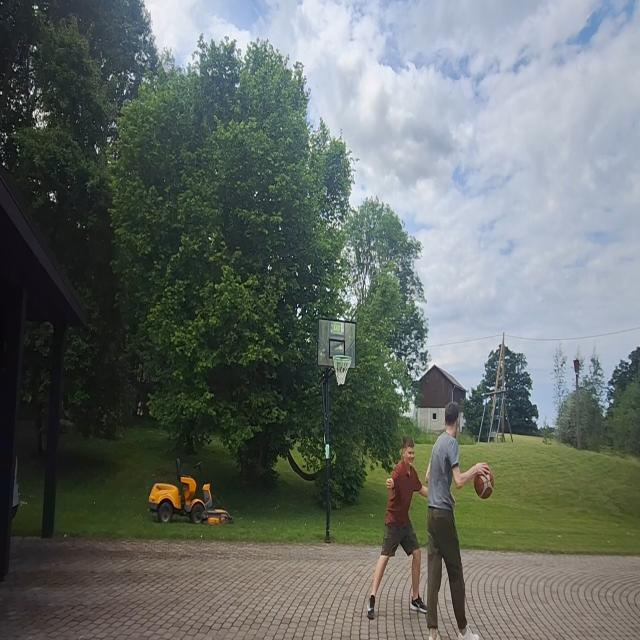ball: (472, 460, 494, 500)
basket: (333, 352, 352, 387)
player: (425, 399, 493, 640), (366, 433, 428, 619)
